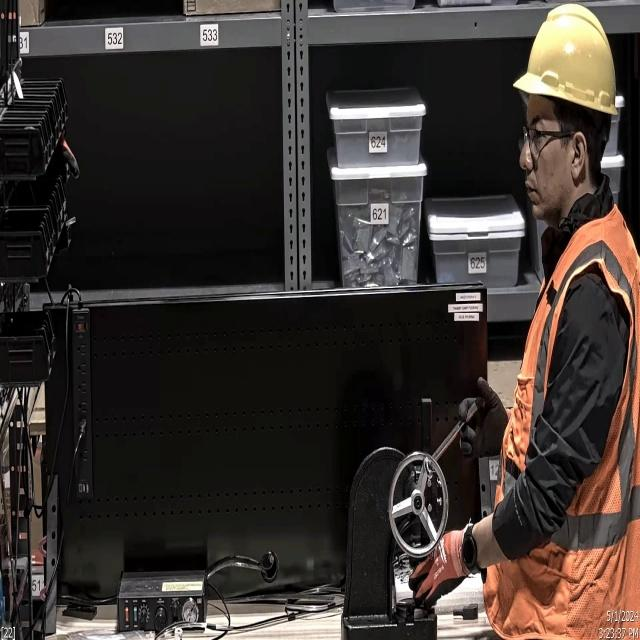construction-gloves: (402, 530, 468, 612)
